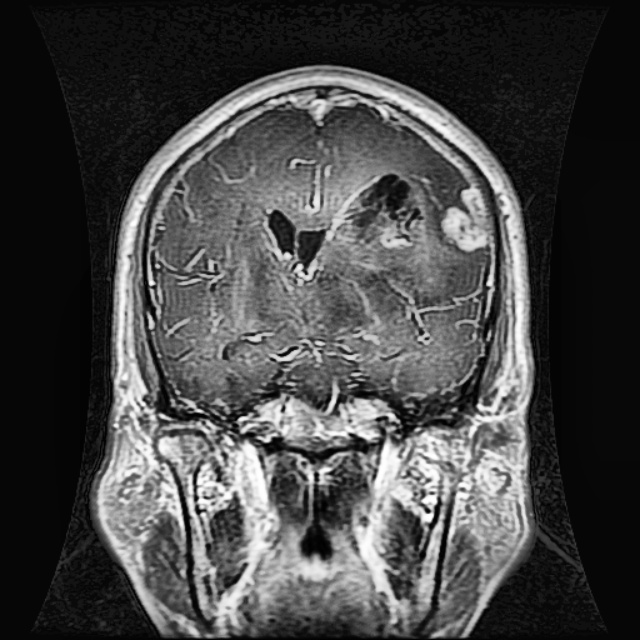Glioma: (333, 174, 493, 269)
